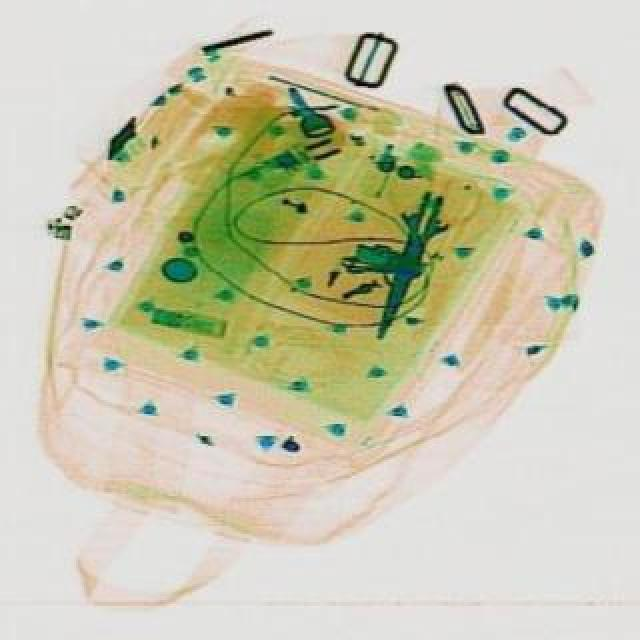knife: (362, 190, 462, 350)
